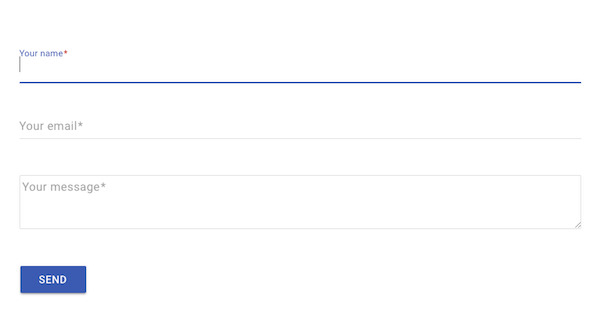button: (18, 264, 87, 295)
field: (17, 174, 583, 231)
field_line: (17, 48, 584, 84), (16, 117, 583, 141)
